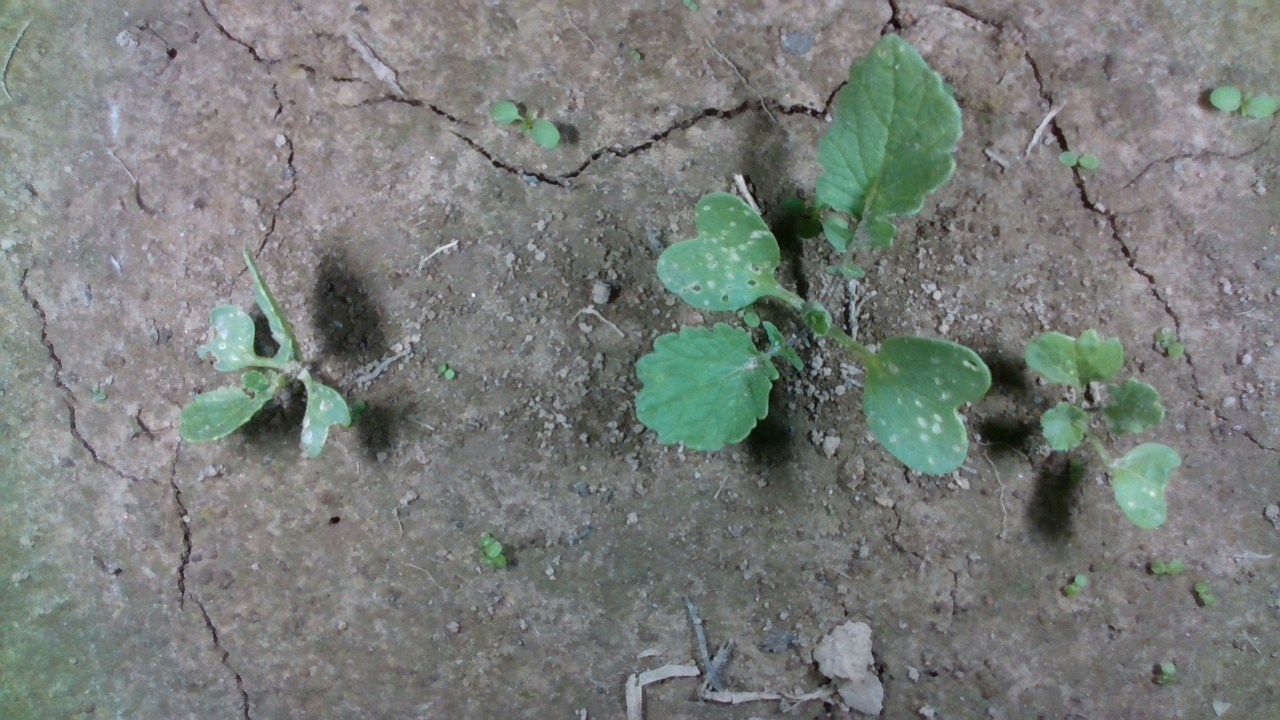weed: (486, 91, 569, 154), (471, 522, 515, 572), (1058, 138, 1100, 178), (1150, 322, 1182, 364), (1150, 550, 1178, 590), (1192, 572, 1220, 609), (1154, 654, 1184, 685), (426, 357, 461, 380), (1061, 566, 1086, 595)
